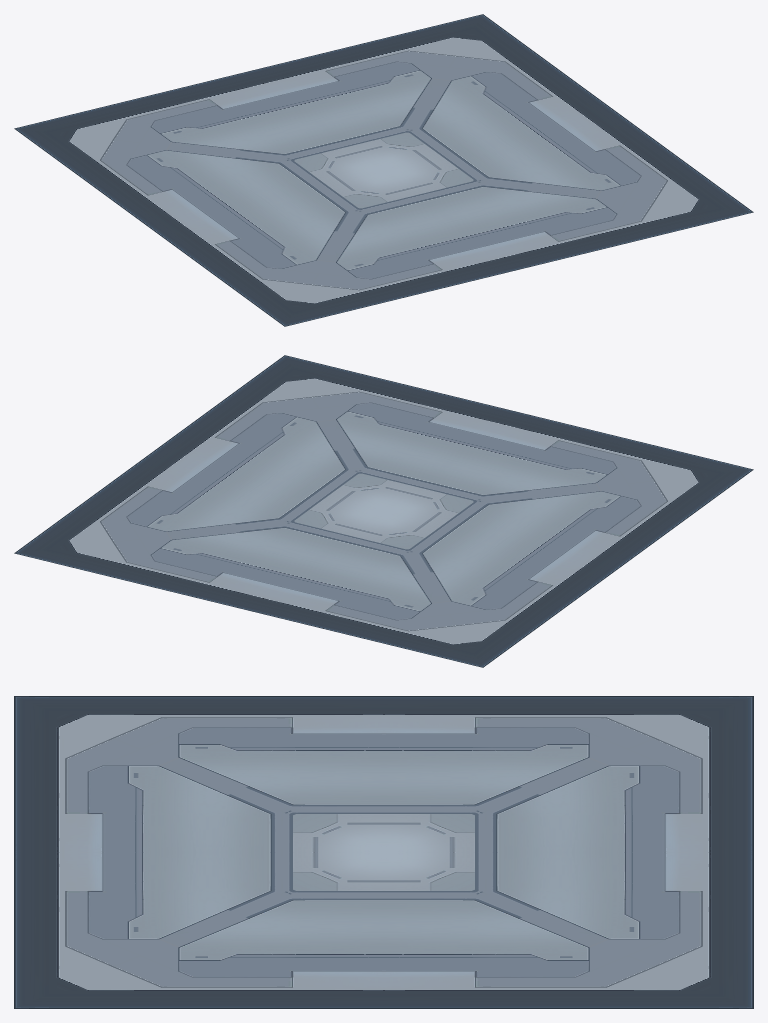
Rendered from my_carrier_01_carpet_05.glb.
3 renders of one model, top to bottom at view 1: azimuth 30°, elevation 25°; view 2: azimuth 150°, elevation 25°; view 3: azimuth 270°, elevation 25°, orthographic. The views are drawn at different scales.
Visible parts, largest first — view 1: my_carrier_01_carpet_05; view 2: my_carrier_01_carpet_05; view 3: my_carrier_01_carpet_05.
Boxes of the visible parts, x1,y1,x2,y2 form: my_carrier_01_carpet_05: (14,14,753,326); my_carrier_01_carpet_05: (14,355,753,667); my_carrier_01_carpet_05: (14,696,753,1008).
Size of the model in its own units: 0.054 by 3.82e-09 by 0.054.
1 material, 1 textured.
